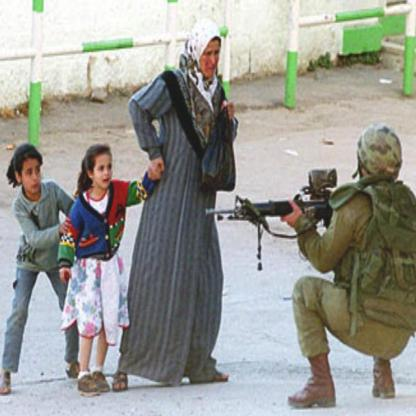face: (200, 40, 222, 78), (22, 160, 42, 193), (95, 154, 113, 189)
